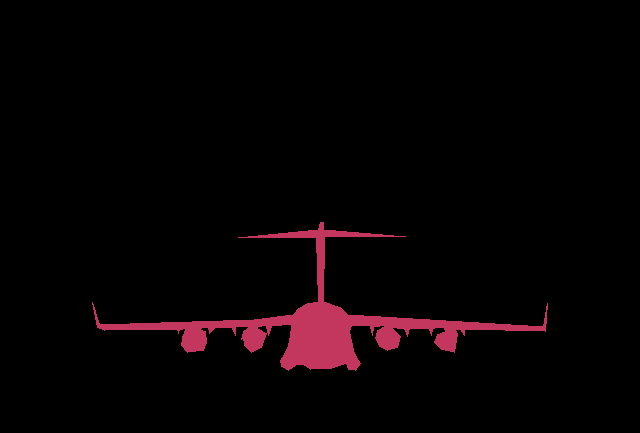Airplane: (92, 222, 548, 371)
